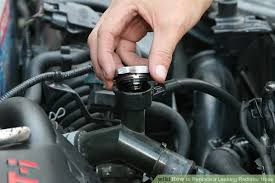radiator_hose: (1, 91, 50, 147)
